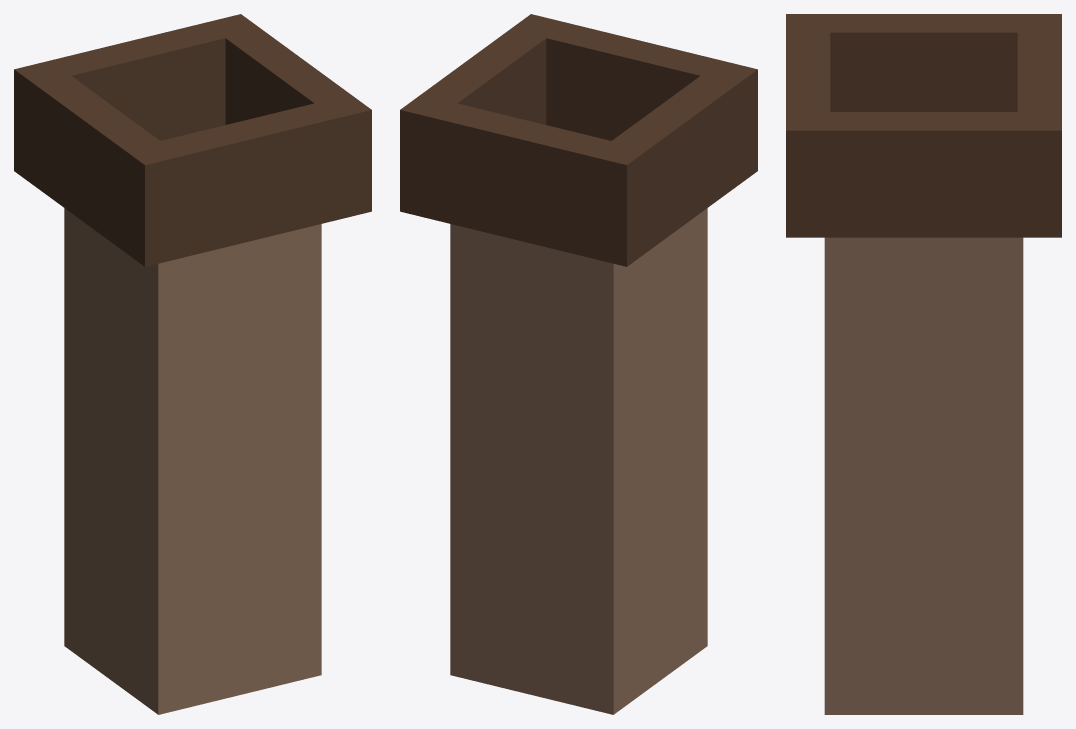
Rendered from Chimney2_C2.fbx.
The picture shows the model from 3 angles, left to right: view 1: azimuth 30°, elevation 25°; view 2: azimuth 150°, elevation 25°; view 3: azimuth 270°, elevation 25°; orthographic projection. The views are drawn at different scales.
Visible parts, largest first — view 1: Chimney2_C2; view 2: Chimney2_C2; view 3: Chimney2_C2.
Boxes of the visible parts, bbox=[...] form: Chimney2_C2: bbox=[14, 14, 371, 714]; Chimney2_C2: bbox=[400, 14, 757, 714]; Chimney2_C2: bbox=[786, 14, 1061, 714].
Size of the model in its own units: 55.59 by 134 by 55.59.
